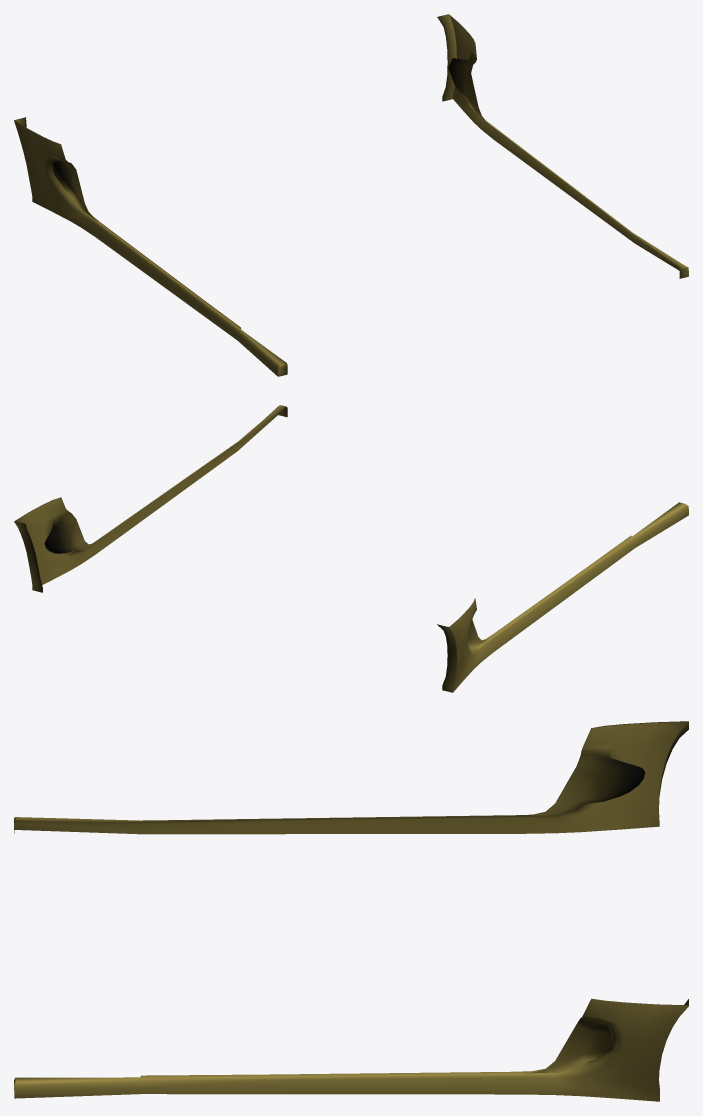
The model's file is Supra_SideSkirt_03_Duco.fbx.
The picture shows the model from 3 angles, top to bottom: view 1: azimuth 30°, elevation 25°; view 2: azimuth 150°, elevation 25°; view 3: azimuth 270°, elevation 25°; orthographic projection. The views are drawn at different scales.
Visible parts, largest first — view 1: Supra_SideSkirt_03_Duco; view 2: Supra_SideSkirt_03_Duco; view 3: Supra_SideSkirt_03_Duco.
Boxes of the visible parts, x1,y1,x2,y2 form: Supra_SideSkirt_03_Duco: (14,14,688,376); Supra_SideSkirt_03_Duco: (14,405,688,692); Supra_SideSkirt_03_Duco: (14,721,688,1101).
Size of the model in its own units: 187 by 30.89 by 187.
